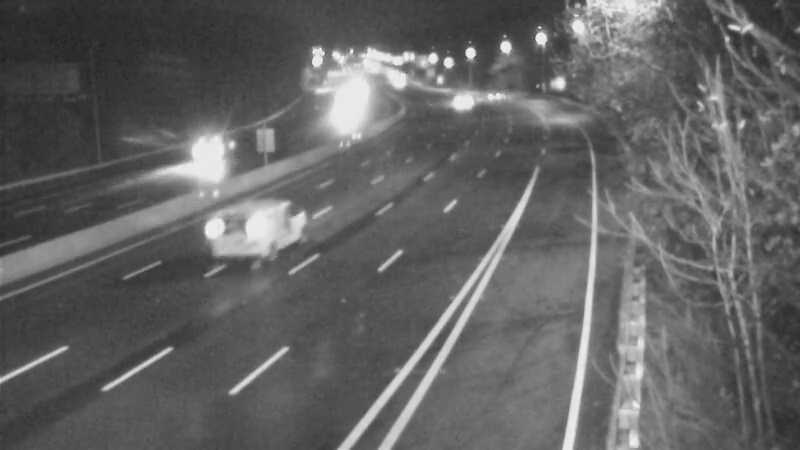vehicle: (199, 196, 279, 276), (471, 75, 521, 125), (432, 74, 482, 124), (184, 123, 234, 173)
